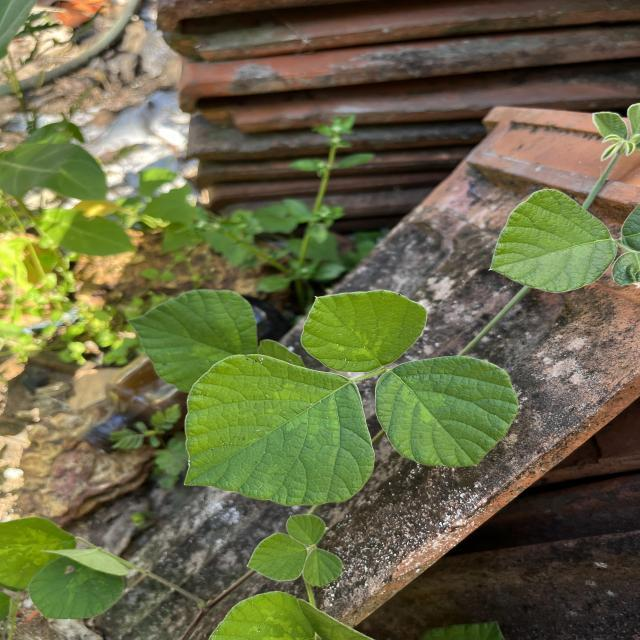Pseudarthria viscida: (180, 287, 520, 509), (244, 512, 346, 590)
